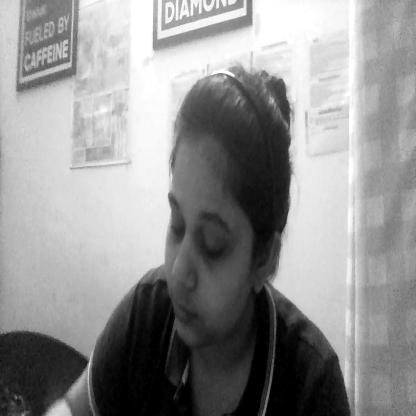Distracted: (168, 63, 288, 340)
